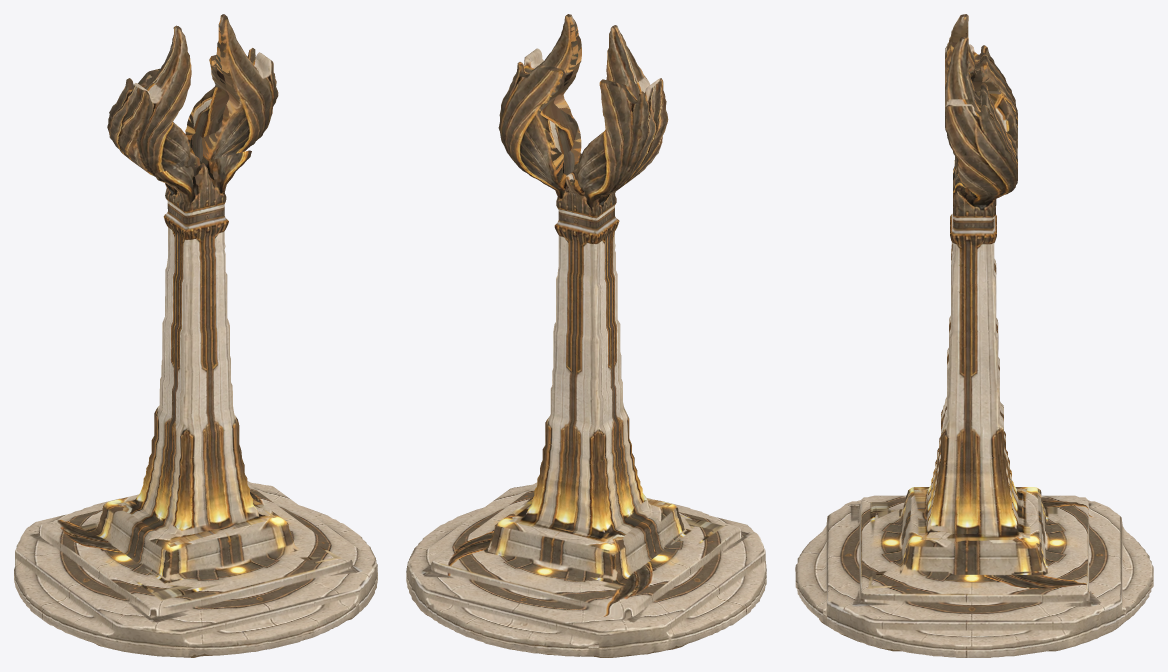
File: monument.glb
3 views of the same model, side by side, from view 1: azimuth 30°, elevation 25°; view 2: azimuth 150°, elevation 25°; view 3: azimuth 270°, elevation 25° (orthographic).
Visible parts, largest first — view 1: monument; view 2: monument; view 3: monument.
Boxes of the visible parts, x1,y1,x2,y2 form: monument: (14, 14, 377, 657); monument: (406, 14, 766, 657); monument: (795, 14, 1153, 657).
Bounding box in the file's own units: 26.17 × 45 × 26.01.
1 material, 1 textured.
